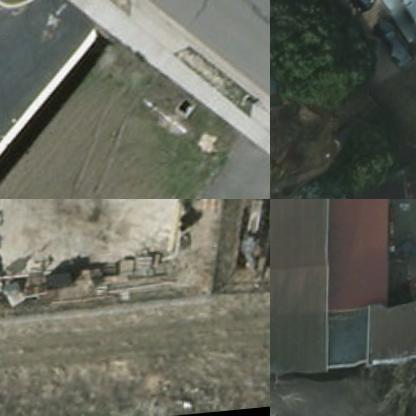car: (373, 20, 413, 78), (335, 0, 384, 22)
